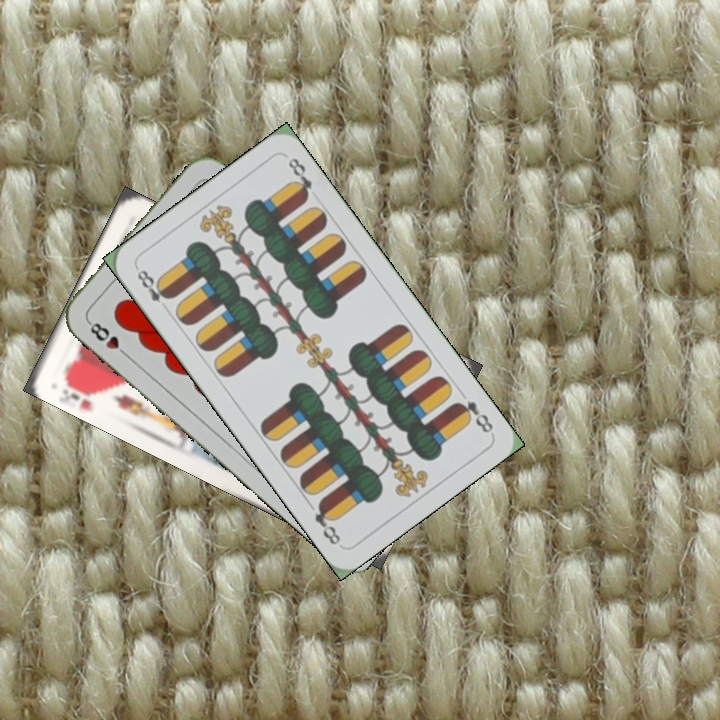E8: (450, 396, 496, 436), (132, 263, 174, 306)
H8: (84, 317, 132, 360)
HK: (56, 372, 106, 404)
